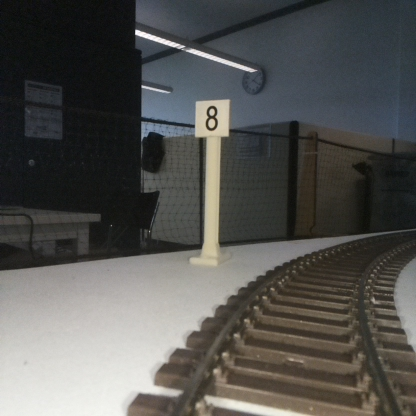white-info-8: (195, 99, 229, 263)
